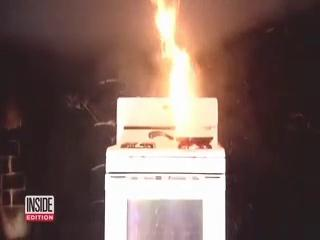Fire: (154, 1, 209, 136)
